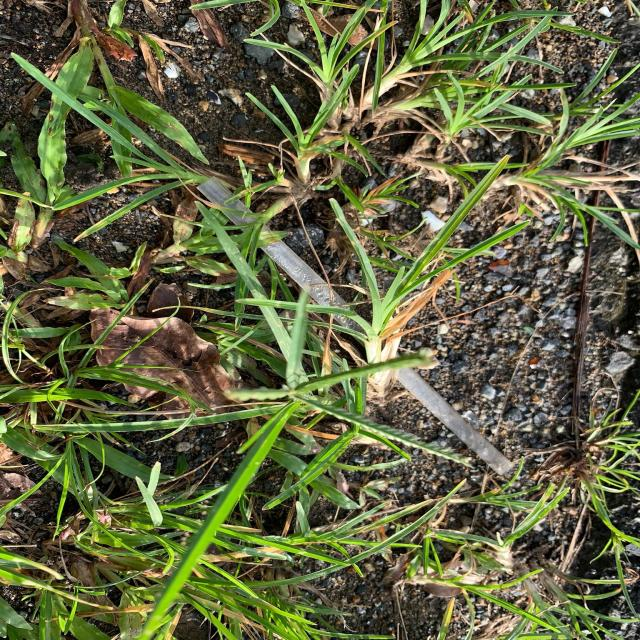litter: (195, 160, 542, 497)
